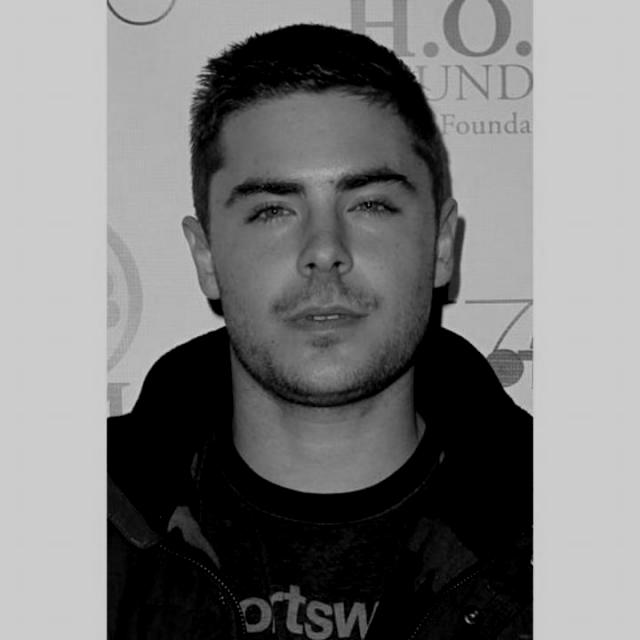real: (192, 42, 448, 404)
